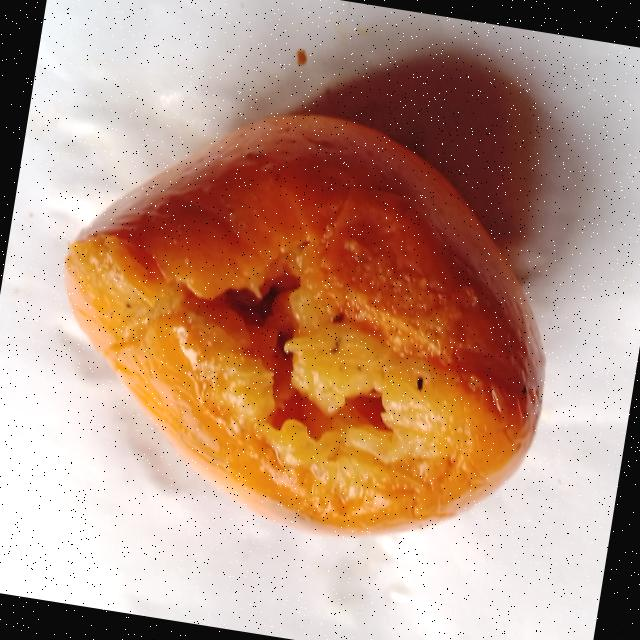Rotten: (29, 75, 586, 568)
